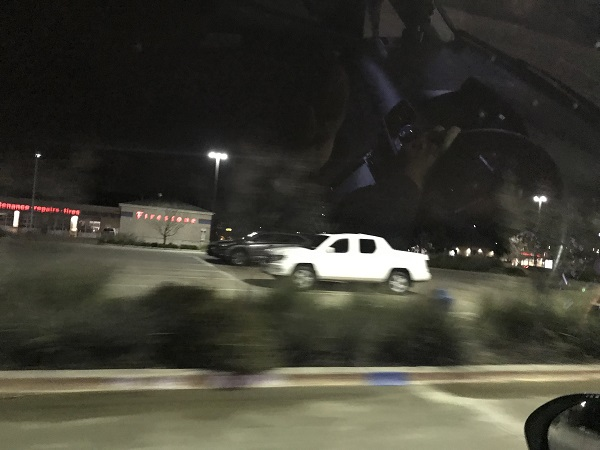car: (203, 227, 312, 268)
truck: (262, 225, 429, 294)
